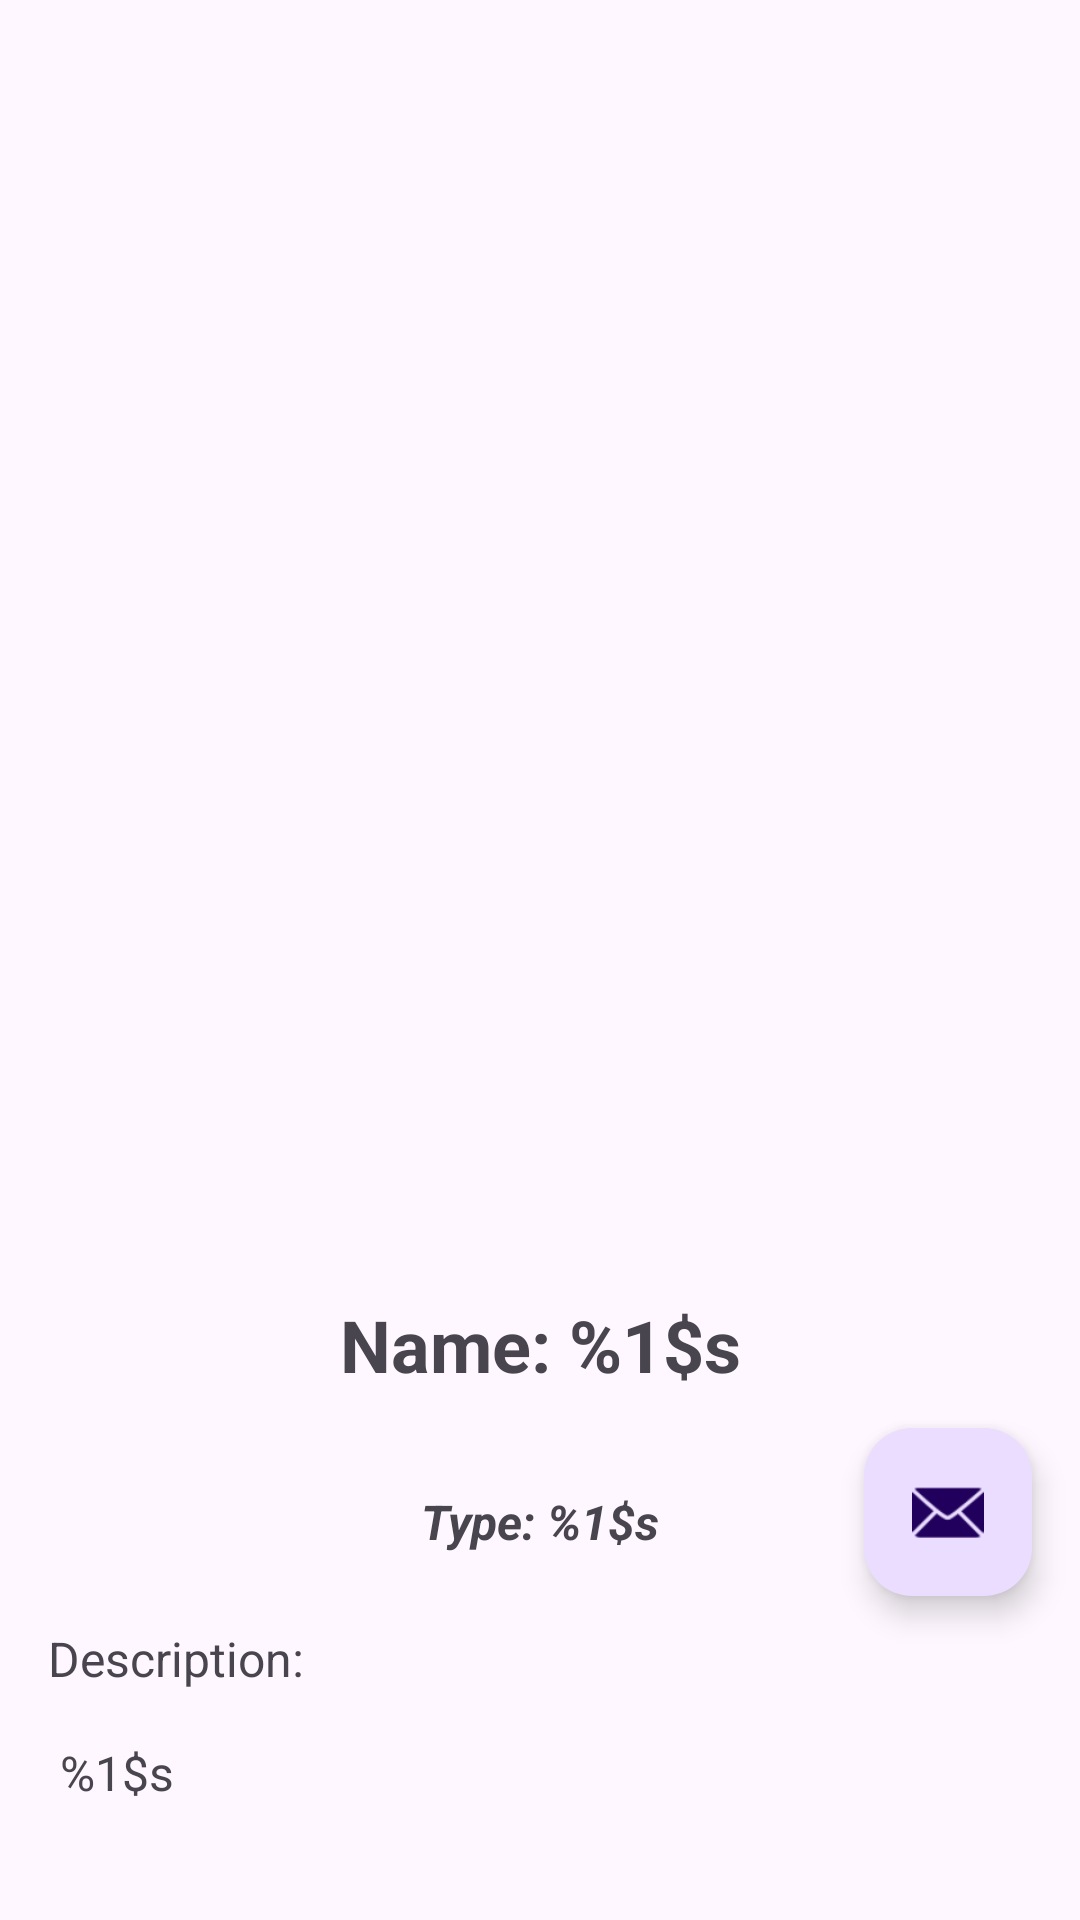

Icon bounding boxes for this 1080 × 1920 phone screenshot, format box(x1, y1, x2, y2):
email: box(864, 1428, 1032, 1596)
